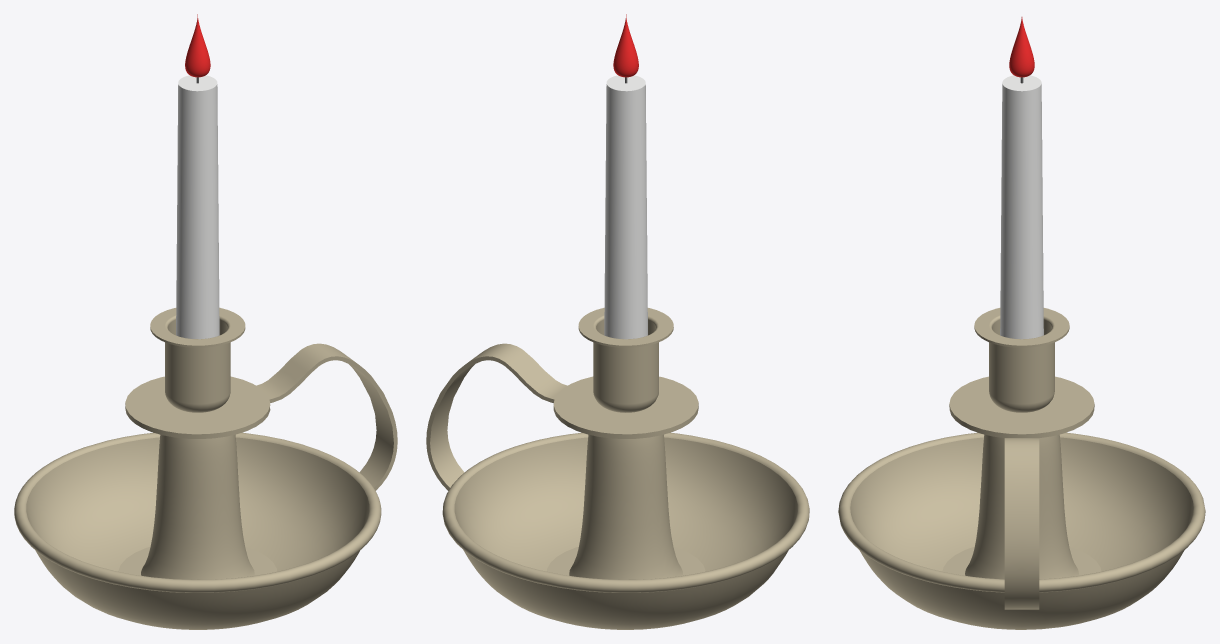
Rendered from 985_candle_house_setted.glb.
The picture shows the model from 3 angles, left to right: view 1: azimuth 30°, elevation 25°; view 2: azimuth 150°, elevation 25°; view 3: azimuth 270°, elevation 25°; orthographic projection.
Parts seen in each view (by area): view 1: Body, candle; view 2: Body, candle; view 3: Body, candle.
Part boxes in pixels (x1,y1,x2,y2): Body: [14, 307, 397, 629]; candle: [176, 14, 219, 339]; Body: [426, 307, 809, 629]; candle: [604, 14, 647, 339]; Body: [838, 308, 1205, 629]; candle: [1000, 17, 1043, 339].
Bounding box in the file's own units: 0.1398 × 0.2181 × 0.127.
